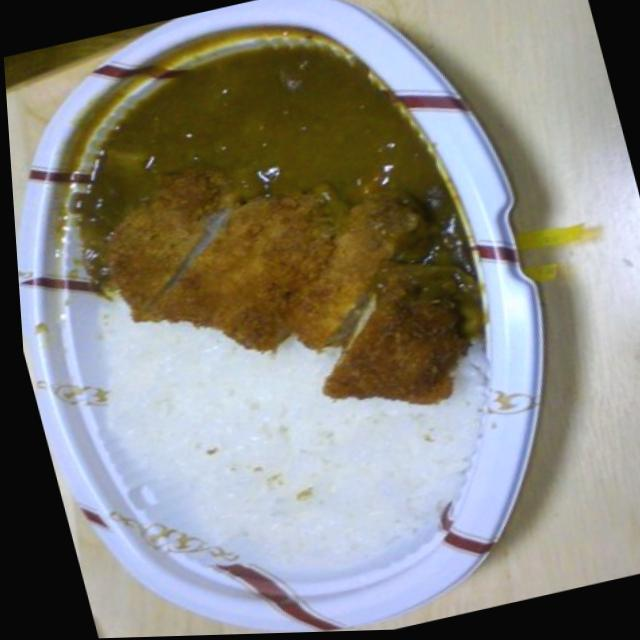猪肉菜式: (0, 0, 605, 640)
